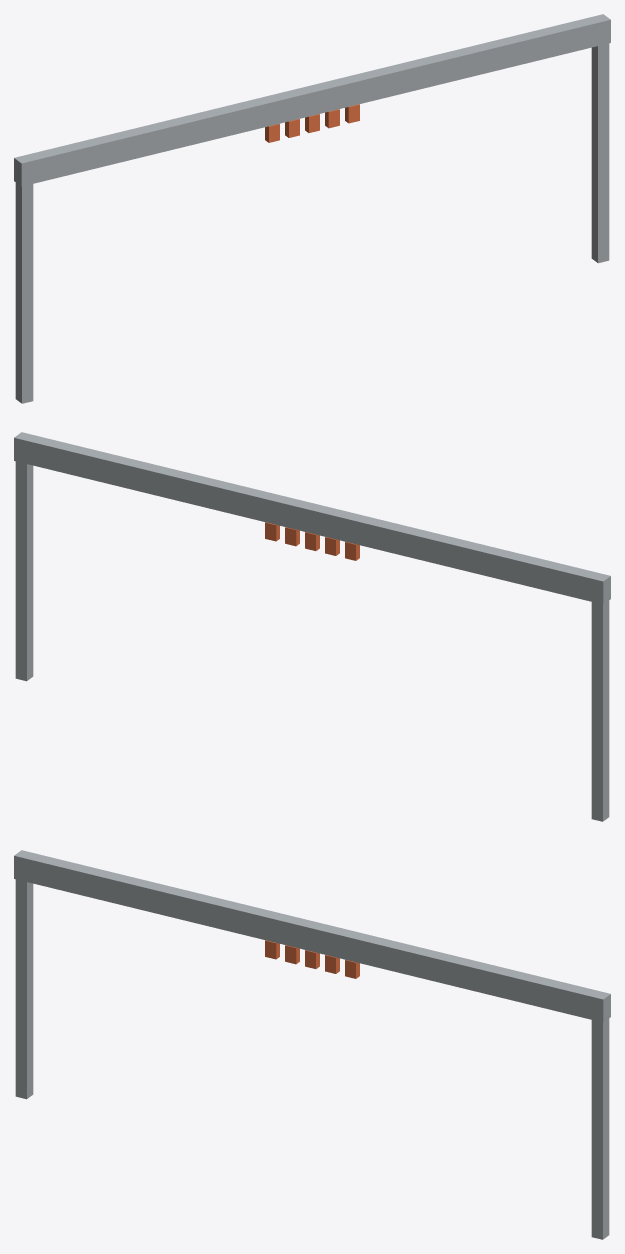
Rendered from gantry.glb.
3 views of the same model, one above another, from view 1: azimuth 30°, elevation 25°; view 2: azimuth 150°, elevation 25°; view 3: azimuth 330°, elevation 25° (orthographic).
Parts seen in each view (by area): view 1: start-finish-gantry; view 2: start-finish-gantry; view 3: start-finish-gantry.
Part boxes in pixels (x1,y1,x2,y2): start-finish-gantry: (14,14,610,403); start-finish-gantry: (14,432,610,821); start-finish-gantry: (14,850,610,1239).
Size of the model in its own units: 13.3 by 5.2 by 0.3004.
